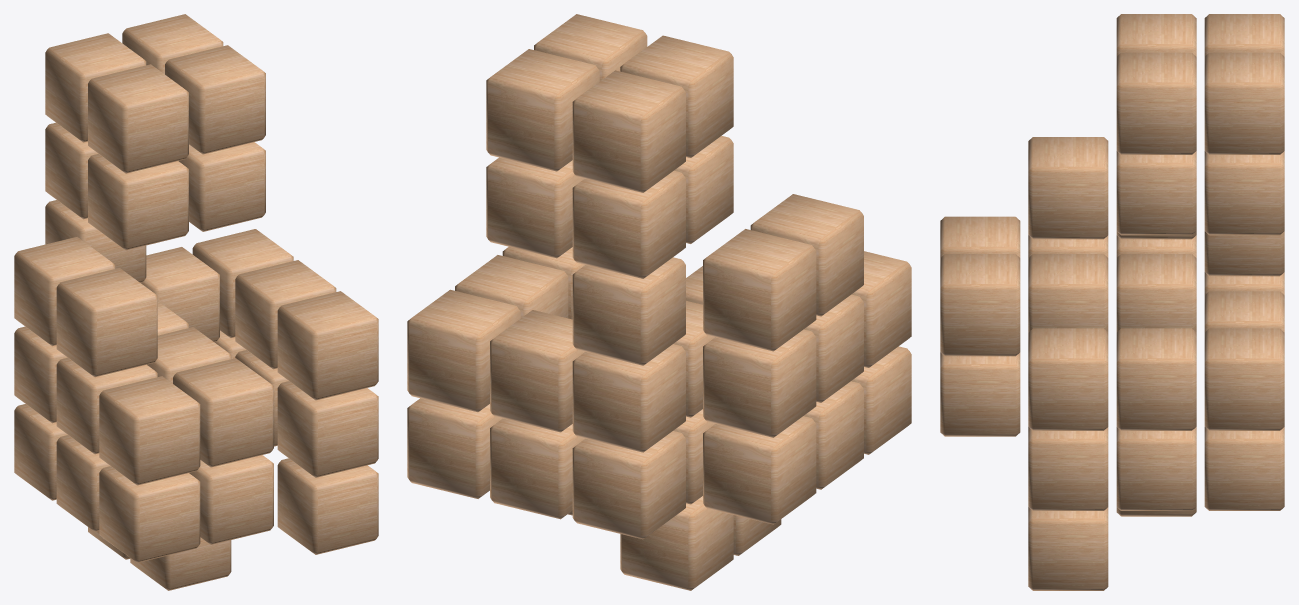
Rendered from level_89.fbx.
3 renders of one model, left to right at view 1: azimuth 30°, elevation 25°; view 2: azimuth 150°, elevation 25°; view 3: azimuth 270°, elevation 25°, orthographic. The views are drawn at different scales.
Visible parts, largest first — view 1: Cube.027, Cube.021, Cube.025, Cube.034, Cube.036, Cube.024, Cube.026, Cube.028, Cube.033, Cube.023, Cube.035, Cube.022 (+16 smaller); view 2: Cube.029, Cube.020, Cube.032, Cube.108, Cube.002, Cube.001, Cube.008, Cube.009, Cube.003, Cube.017, Cube.015, Cube.031 (+16 smaller); view 3: Cube.017, Cube.019, Cube.027, Cube.023, Cube.032, Cube.036, Cube.021, Cube.022, Cube.031, Cube.035, Cube.016, Cube.018 (+13 smaller).
Boxes of the visible parts, x1,y1,x2,y2 form: Cube.027: (277, 291, 378, 400); Cube.021: (56, 268, 157, 377); Cube.025: (99, 376, 200, 485); Cube.034: (88, 64, 188, 173); Cube.036: (165, 45, 265, 154); Cube.024: (99, 466, 200, 562); Cube.026: (277, 381, 378, 477); Cube.028: (277, 458, 378, 554); Cube.033: (88, 154, 188, 250); Cube.023: (173, 358, 273, 467); Cube.035: (178, 142, 265, 231); Cube.022: (189, 455, 273, 544); Cube.029: (572, 70, 685, 192); Cube.020: (703, 229, 816, 351); Cube.032: (486, 49, 599, 171); Cube.108: (572, 431, 685, 539); Cube.002: (572, 257, 685, 365); Cube.001: (572, 344, 685, 452); Cube.008: (703, 416, 816, 524); Cube.009: (703, 329, 816, 437); Cube.003: (572, 170, 685, 278); Cube.017: (407, 289, 520, 412); Cube.015: (490, 310, 584, 432); Cube.031: (486, 157, 584, 258); Cube.017: (1204, 328, 1284, 430); Cube.019: (1116, 328, 1196, 430); Cube.027: (1028, 328, 1108, 430); Cube.023: (940, 254, 1020, 356); Cube.032: (1204, 52, 1284, 154); Cube.036: (1116, 52, 1196, 154); Cube.021: (1028, 137, 1108, 239); Cube.022: (940, 352, 1020, 436); Cube.031: (1204, 151, 1284, 235); Cube.035: (1116, 151, 1196, 235); Cube.016: (1204, 427, 1284, 510); Cube.018: (1116, 427, 1196, 510).
Bounding box in the file's own units: 8.6 × 13.03 × 8.6.
